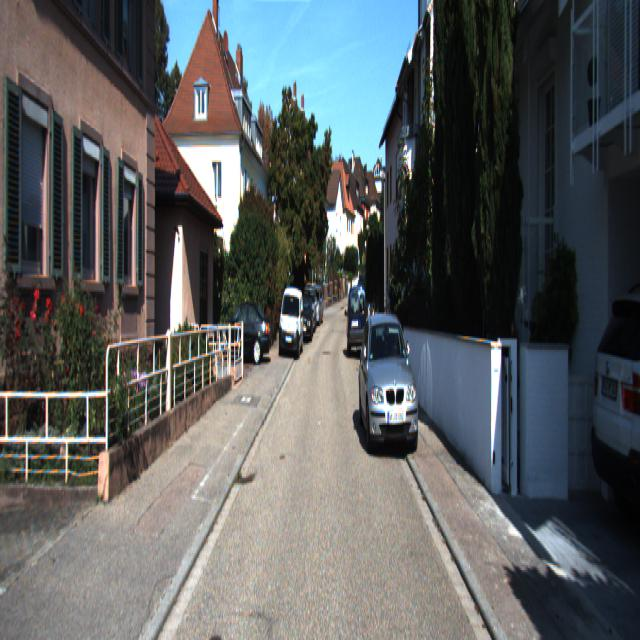Car: (592, 267, 640, 568), (358, 306, 420, 458), (212, 300, 272, 367), (277, 284, 305, 358), (346, 284, 369, 358), (296, 298, 314, 344)
